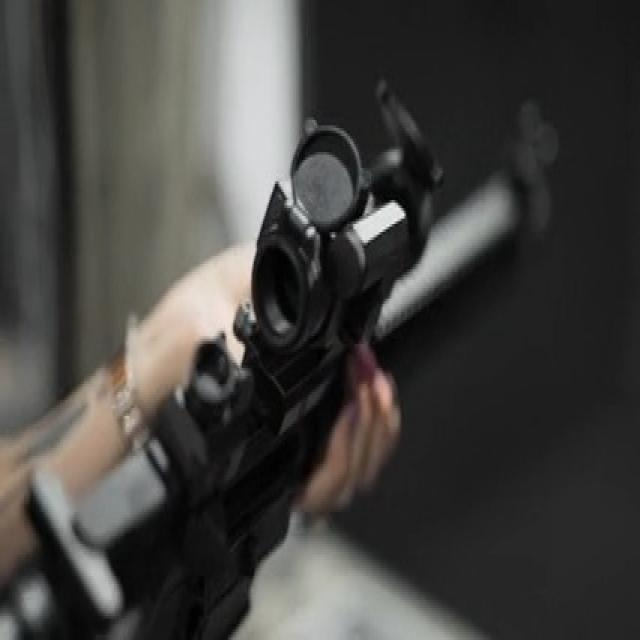Gun_Holder: (32, 71, 605, 640)
